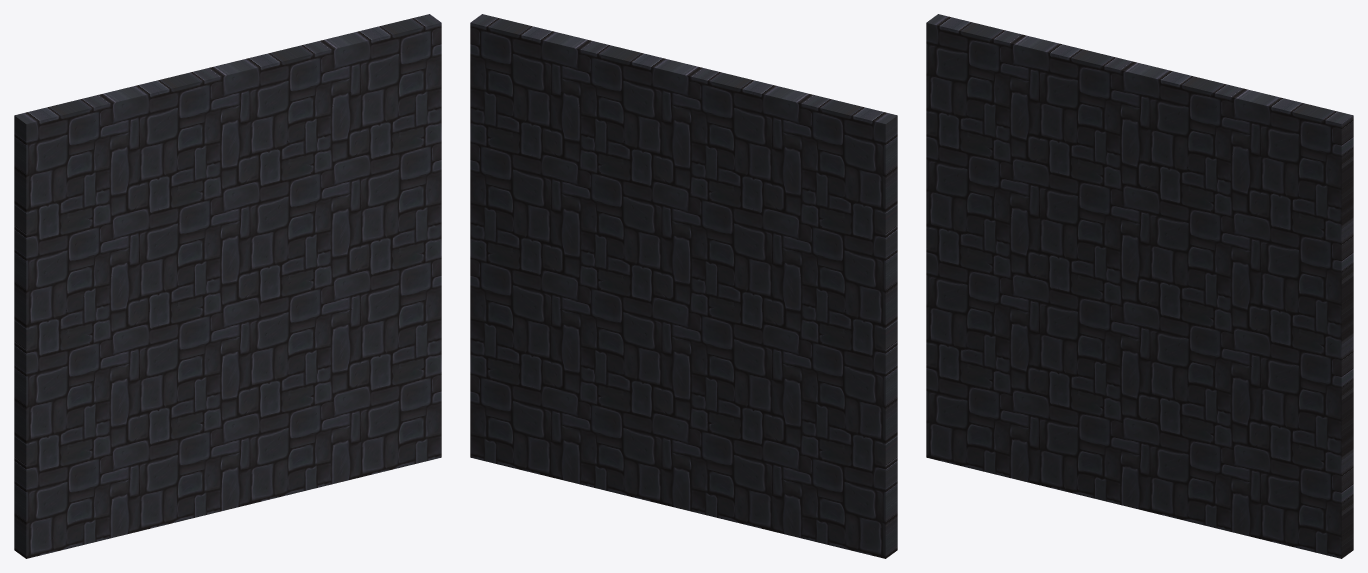
The model's file is ground.dae.
3 renders of one model, left to right at view 1: azimuth 30°, elevation 25°; view 2: azimuth 150°, elevation 25°; view 3: azimuth 330°, elevation 25°, orthographic.
Parts seen in each view (by area): view 1: Cube_035; view 2: Cube_035; view 3: Cube_035.
Part boxes in pixels (left/top/right/bottom): Cube_035: left=14, top=14, right=441, bottom=558; Cube_035: left=470, top=14, right=897, bottom=558; Cube_035: left=926, top=14, right=1353, bottom=558.
Size of the model in its own units: 8 by 0.4 by 8.
Materials: 1 (1 with a texture image).
